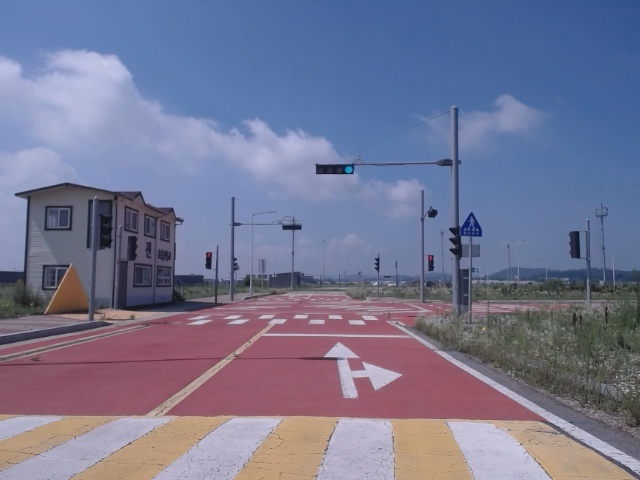straight_green_4: (313, 166, 356, 175)
